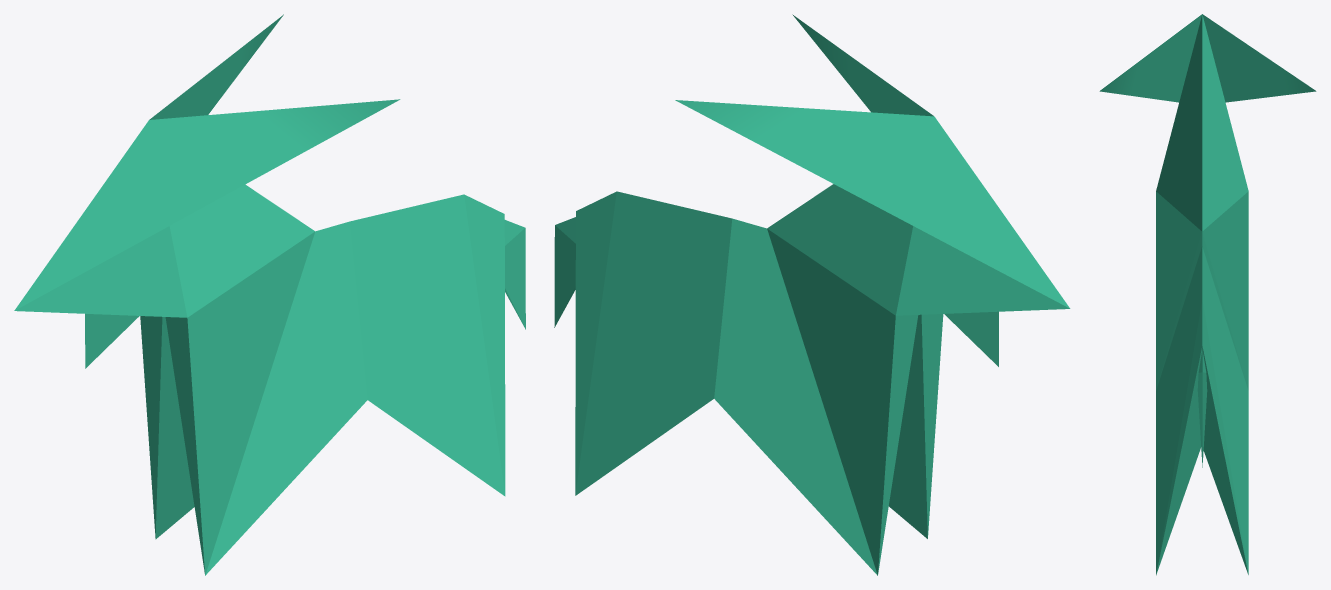
File: Goat.fbx
3 views of the same model, side by side, from view 1: azimuth 30°, elevation 25°; view 2: azimuth 150°, elevation 25°; view 3: azimuth 270°, elevation 25° (orthographic). The views are drawn at different scales.
Parts seen in each view (by area): view 1: Goat; view 2: Goat; view 3: Goat.
Part boxes in pixels (x1,y1,x2,y2): Goat: (14, 14, 525, 575); Goat: (554, 14, 1070, 575); Goat: (1099, 14, 1316, 575).
Size of the model in its own units: 164 by 140 by 64.61.
